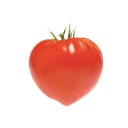tomato: (29, 38, 102, 105)
